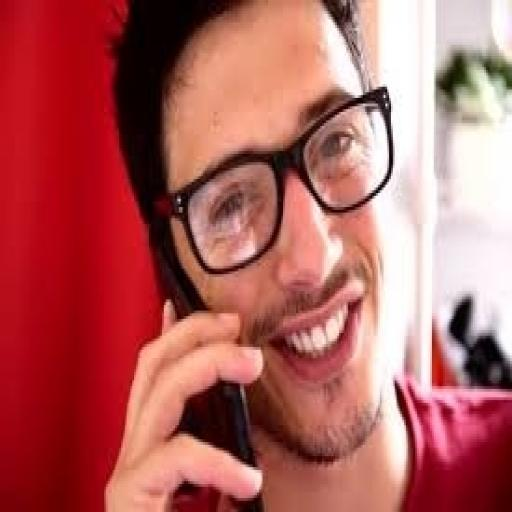calling: (95, 0, 510, 509)
